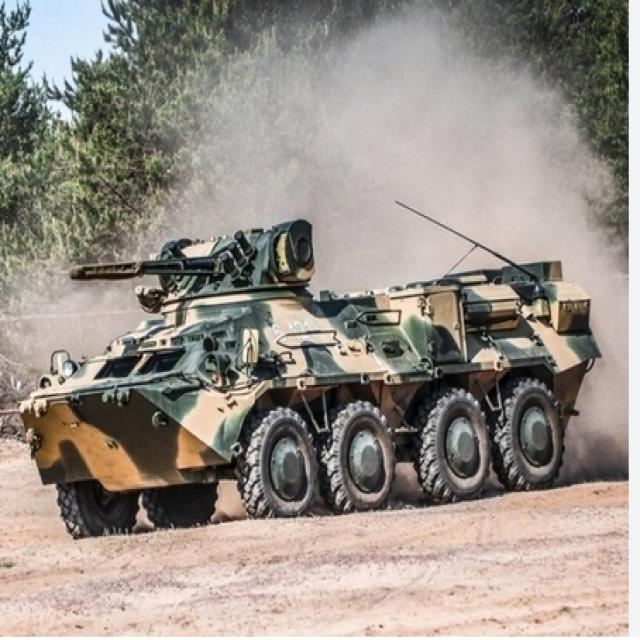MIL_APC: (21, 232, 605, 518)
